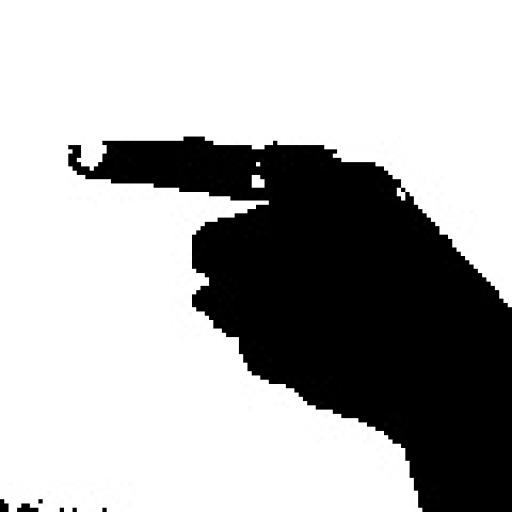index_left: (64, 132, 512, 354)
